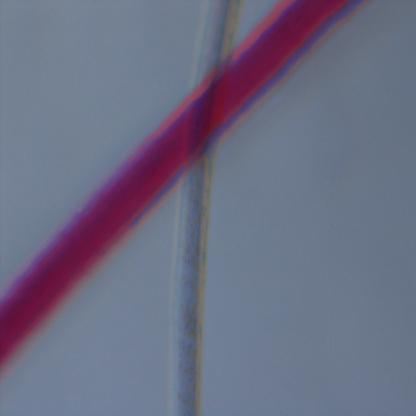Microfibre: (0, 0, 359, 377), (172, 1, 242, 416)
